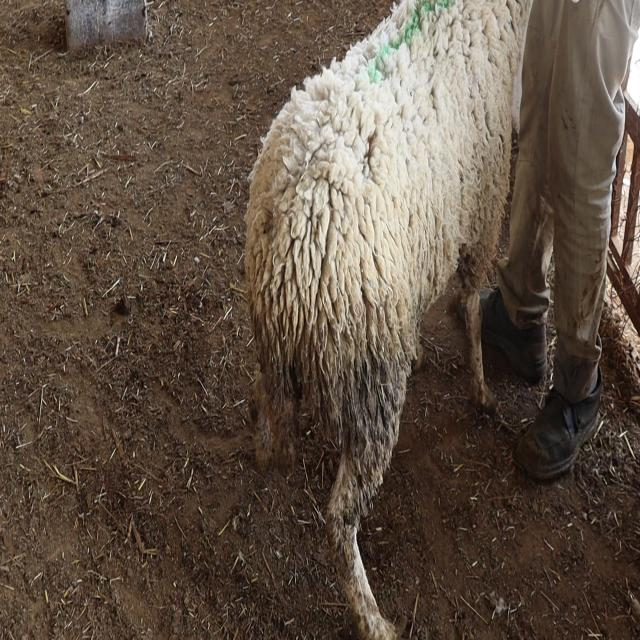Score_4: (244, 0, 531, 639)
